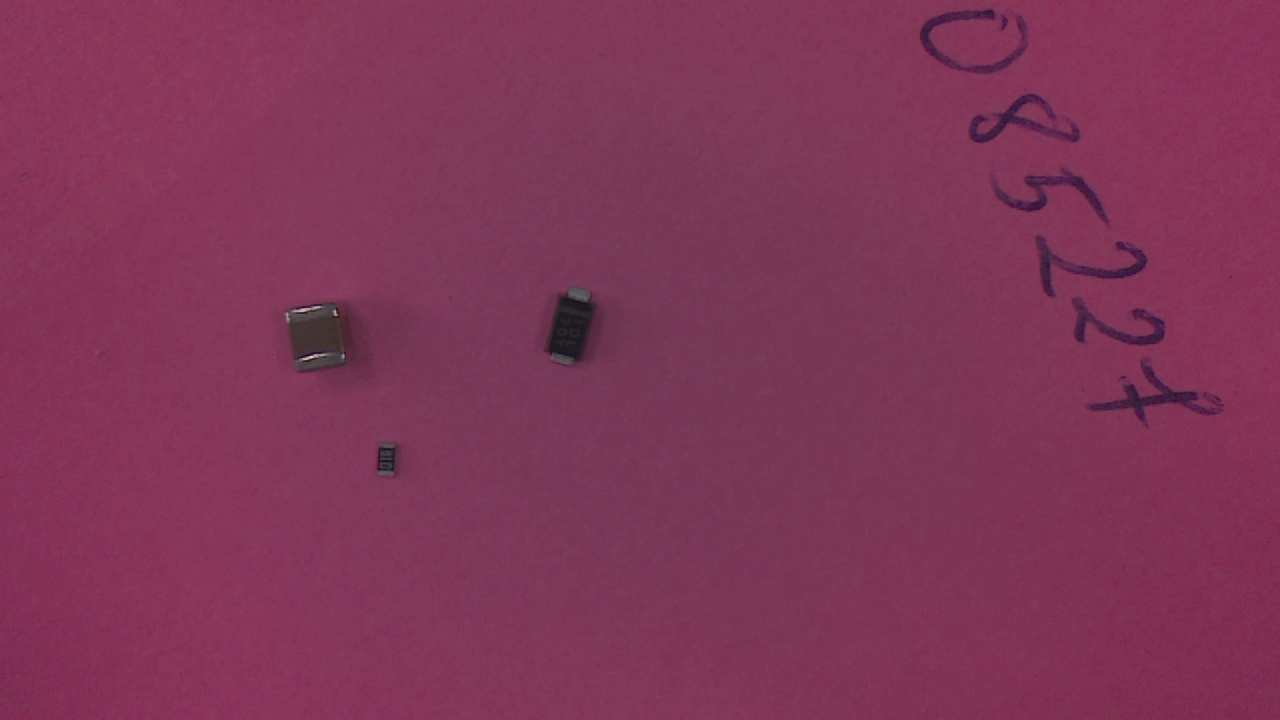Condensator: (290, 306, 359, 379)
Diode: (546, 289, 605, 373)
Resistor: (378, 446, 408, 484)
